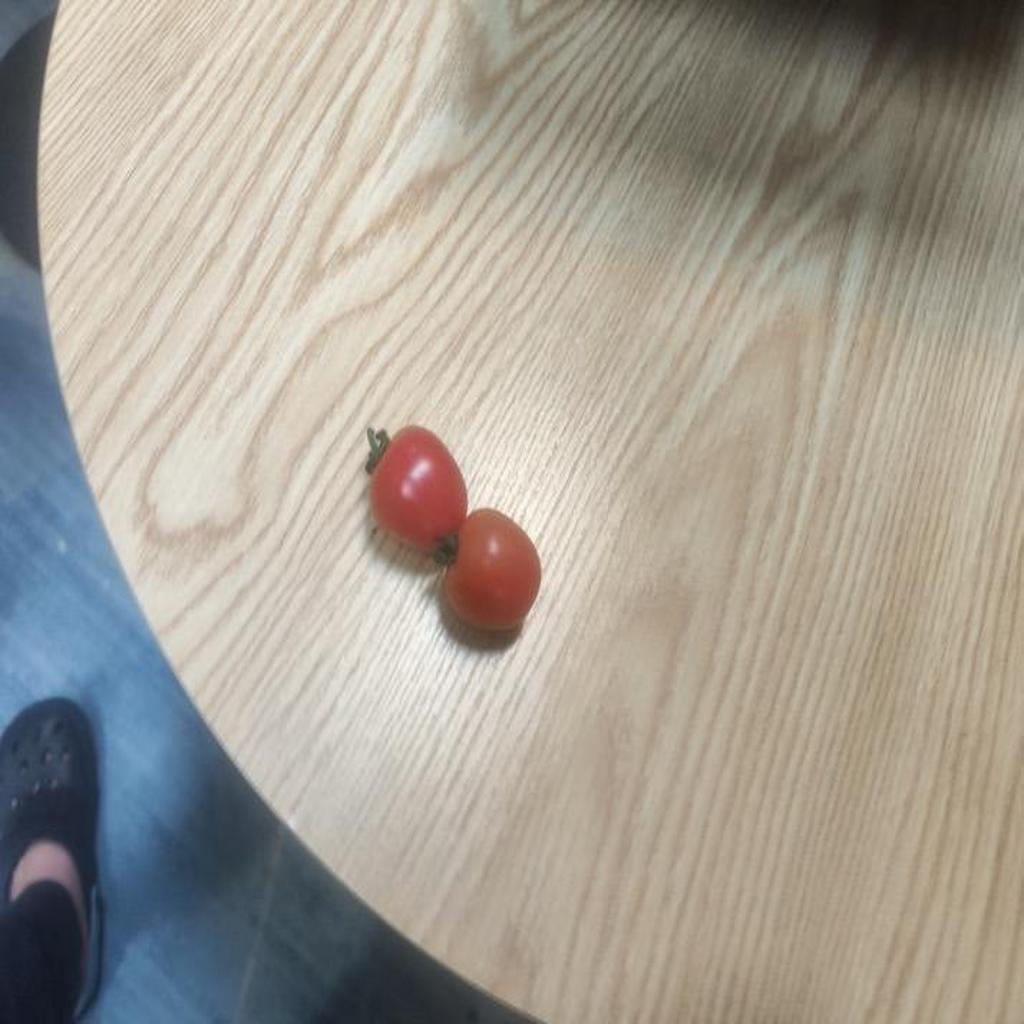tomato: (352, 417, 472, 563), (438, 502, 549, 654)
